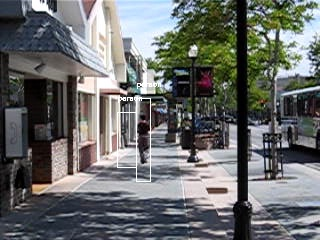person: (137, 114, 154, 165), (136, 114, 153, 165), (138, 114, 155, 165), (137, 113, 154, 164), (137, 115, 154, 166)
target_negative: (263, 65, 300, 213), (189, 22, 248, 98), (5, 191, 26, 232), (231, 124, 255, 136), (79, 88, 161, 91), (311, 163, 318, 190)
